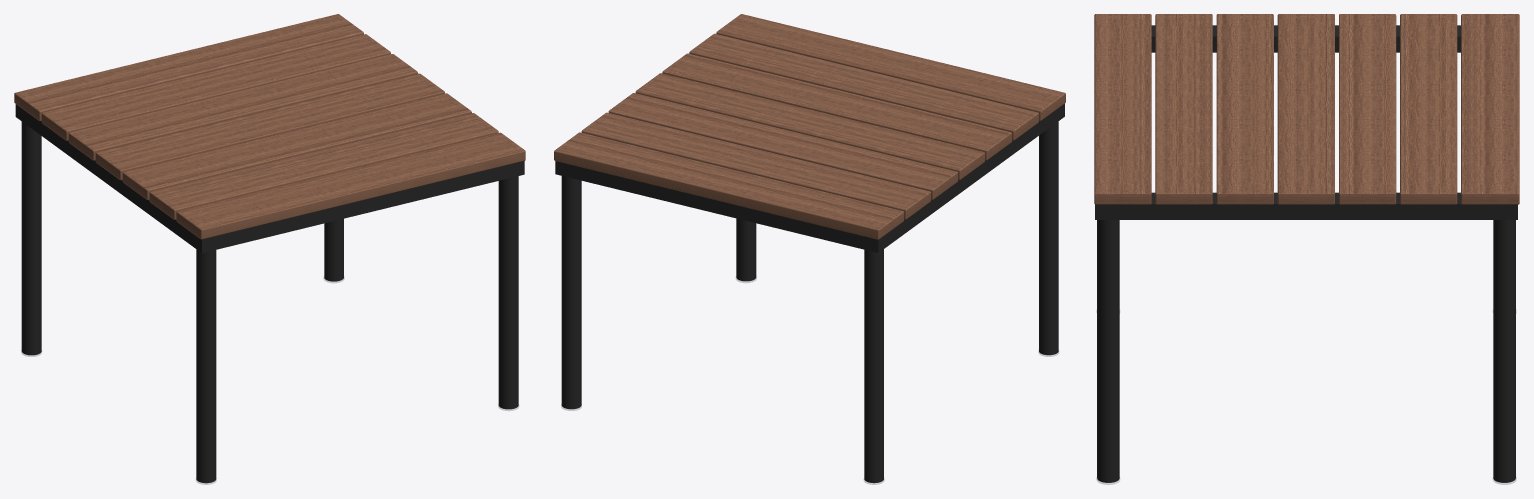
File: core-table.glb
The picture shows the model from 3 angles, left to right: view 1: azimuth 30°, elevation 25°; view 2: azimuth 150°, elevation 25°; view 3: azimuth 270°, elevation 25°; orthographic projection. The views are drawn at different scales.
Parts seen in each view (by area): view 1: Table.002, Table; view 2: Table.002, Table; view 3: Table.002, Table.
Part boxes in pixels (left/top/right/bottom): Table.002: left=14, top=14, right=525, bottom=239; Table: left=15, top=104, right=524, bottom=483; Table.002: left=554, top=14, right=1065, bottom=239; Table: left=555, top=104, right=1064, bottom=483; Table.002: left=1094, top=14, right=1519, bottom=204; Table: left=1095, top=25, right=1517, bottom=482.
Bounding box in the file's own units: 6.04 × 4.61 × 6.04.
3 materials, 1 textured.
